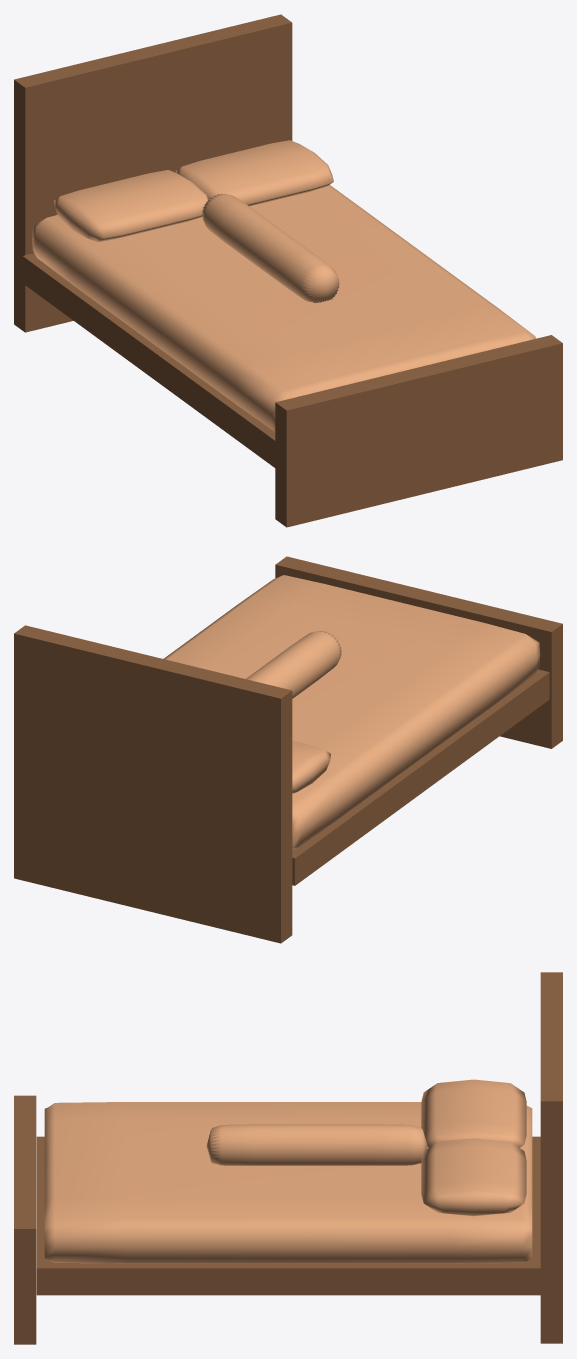
File: kasur.fbx
The picture shows the model from 3 angles, top to bottom: view 1: azimuth 30°, elevation 25°; view 2: azimuth 150°, elevation 25°; view 3: azimuth 270°, elevation 25°; orthographic projection.
Visible parts, largest first — view 1: Cube, Cube.002, Cube.003, Cube.001, Cube.004, Cylinder, Cube.005; view 2: Cube.002, Cube, Cube.001, Cube.003, Cylinder, Cube.004; view 3: Cube, Cube.001, Cylinder, Cube.002, Cube.005, Cube.004, Cube.003.
Part boxes in pixels (left/top/right/bottom): Cube: left=32, top=185, right=536, bottom=431; Cube.002: left=14, top=14, right=292, bottom=332; Cube.003: left=275, top=335, right=562, bottom=527; Cube.001: left=22, top=253, right=275, bottom=467; Cube.004: left=54, top=170, right=208, bottom=242; Cylinder: left=202, top=193, right=339, bottom=303; Cube.005: left=175, top=140, right=333, bottom=206; Cube.002: left=14, top=625, right=292, bottom=943; Cube: left=163, top=575, right=540, bottom=849; Cube.001: left=292, top=669, right=549, bottom=885; Cube.003: left=275, top=556, right=562, bottom=748; Cylinder: left=246, top=631, right=341, bottom=698; Cube.004: left=292, top=740, right=330, bottom=793; Cube: left=44, top=1102, right=532, bottom=1263; Cube.001: left=36, top=1136, right=540, bottom=1295; Cylinder: left=206, top=1124, right=427, bottom=1165; Cube.002: left=540, top=972, right=562, bottom=1343; Cube.005: left=421, top=1138, right=526, bottom=1216; Cube.004: left=421, top=1079, right=526, bottom=1147; Cube.003: left=14, top=1095, right=36, bottom=1344.
Bounding box in the file's own units: 550 × 466 × 956.
